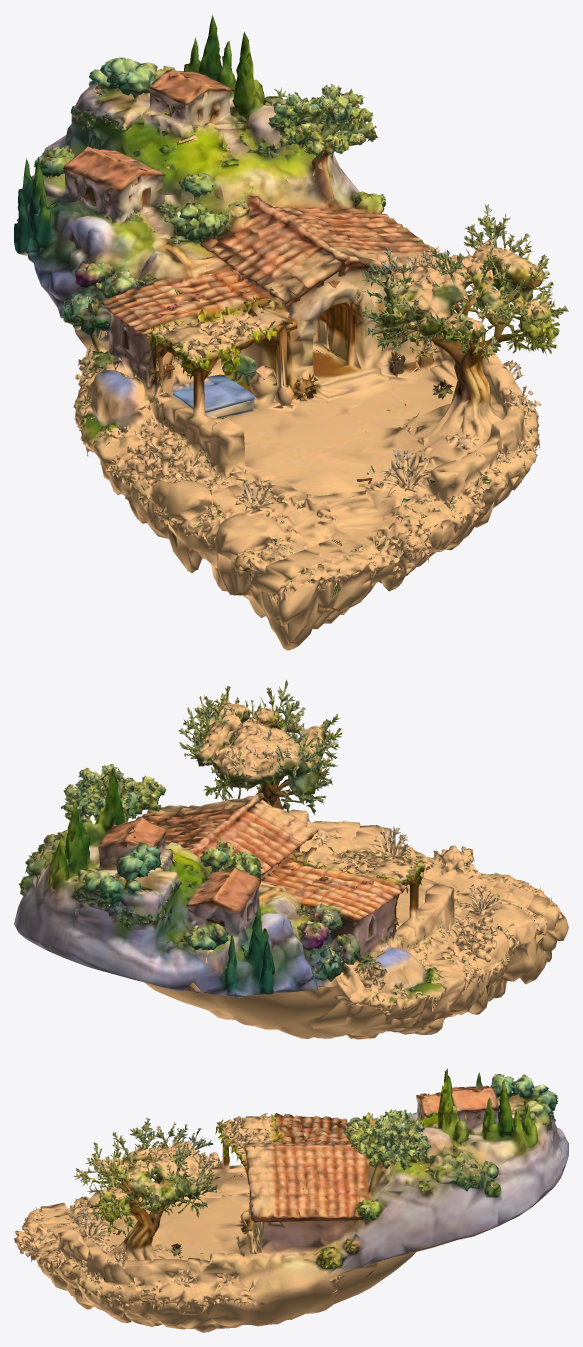
Rendered from week3.glb.
3 views of the same model, one above another, from view 1: azimuth 30°, elevation 25°; view 2: azimuth 150°, elevation 25°; view 3: azimuth 270°, elevation 25° (orthographic). The views are drawn at different scales.
Visible parts, largest first — view 1: tripo_node_058cab7c-3208-4eab-9cb2-dbbd5c335c51; view 2: tripo_node_058cab7c-3208-4eab-9cb2-dbbd5c335c51; view 3: tripo_node_058cab7c-3208-4eab-9cb2-dbbd5c335c51.
Boxes of the visible parts, <box> form: tripo_node_058cab7c-3208-4eab-9cb2-dbbd5c335c51: <box>14,15,568,650</box>; tripo_node_058cab7c-3208-4eab-9cb2-dbbd5c335c51: <box>14,680,568,1039</box>; tripo_node_058cab7c-3208-4eab-9cb2-dbbd5c335c51: <box>14,1068,568,1332</box>.
Bounding box in the file's own units: 0.6021 × 0.597 × 0.9992.
1 material, 1 textured.
